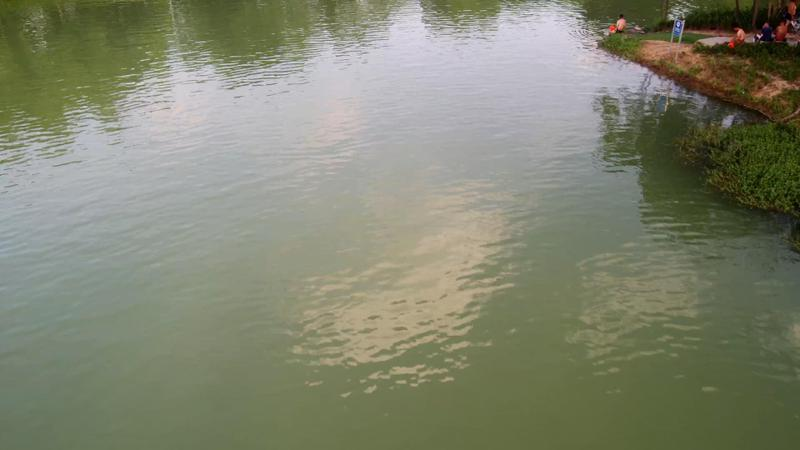passerby: (756, 21, 774, 42)
sus_swimmers: (731, 24, 746, 44), (774, 21, 788, 42), (615, 13, 627, 33)
